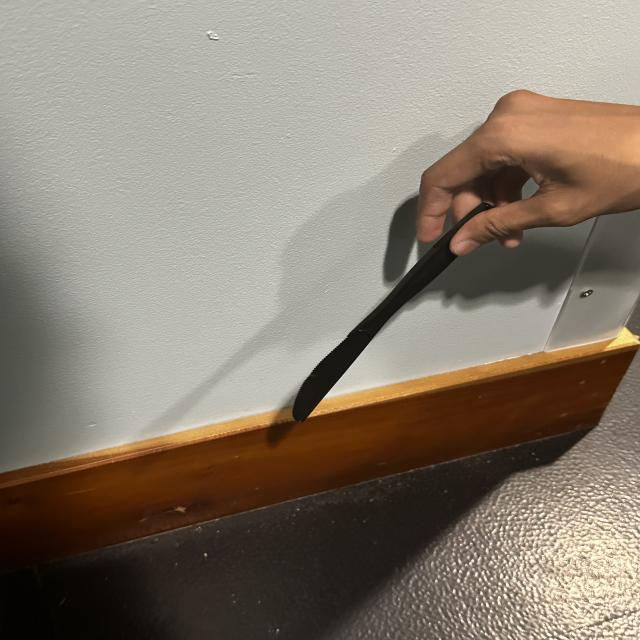knife: (279, 198, 518, 445)
